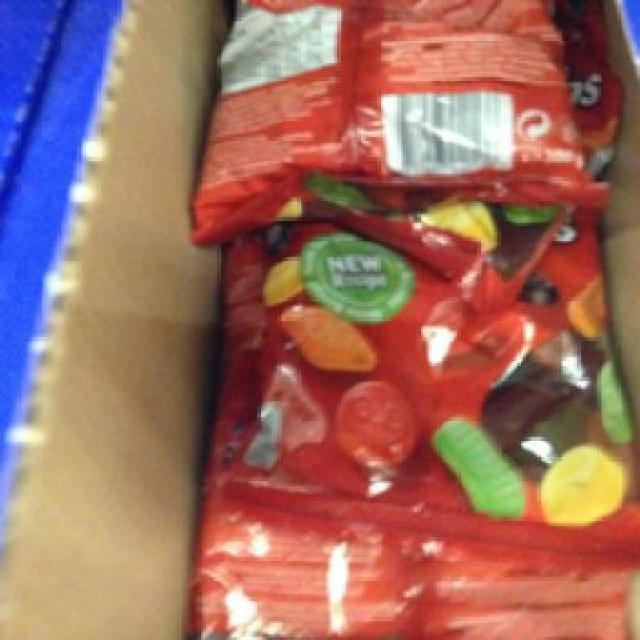Candy: (225, 179, 638, 552), (199, 0, 592, 200)
